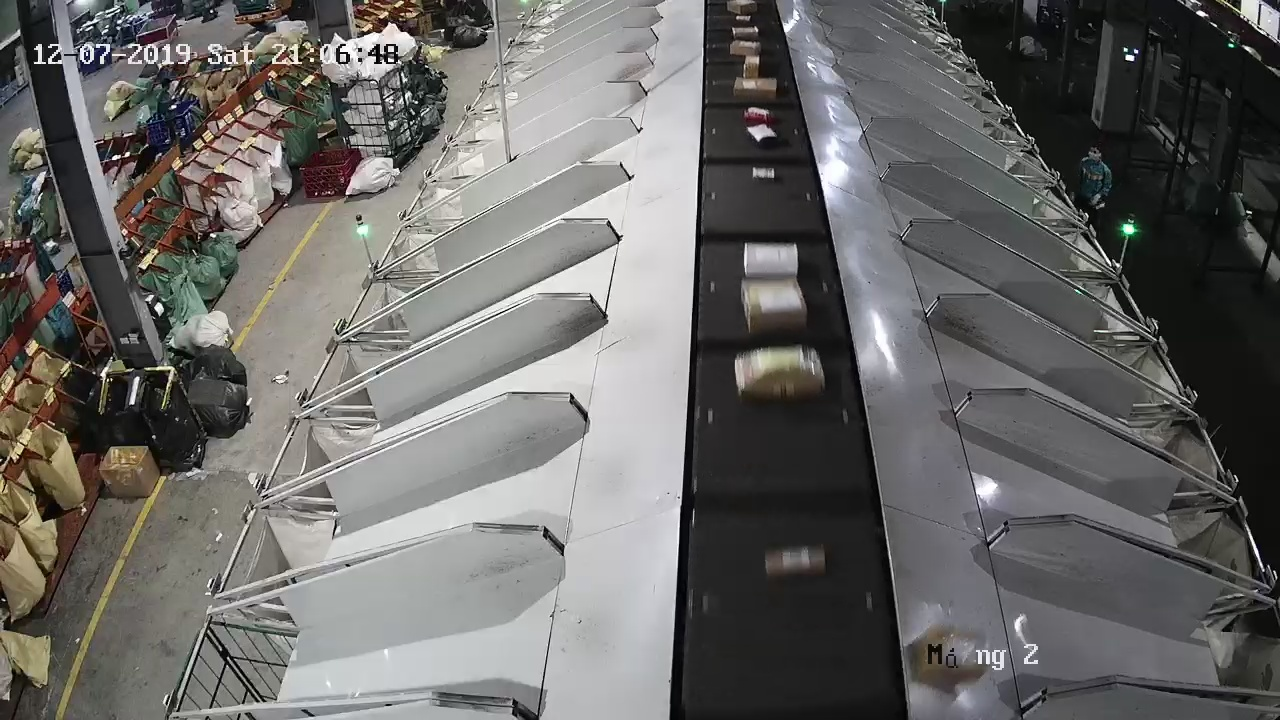parcel: (912, 622, 987, 682)
